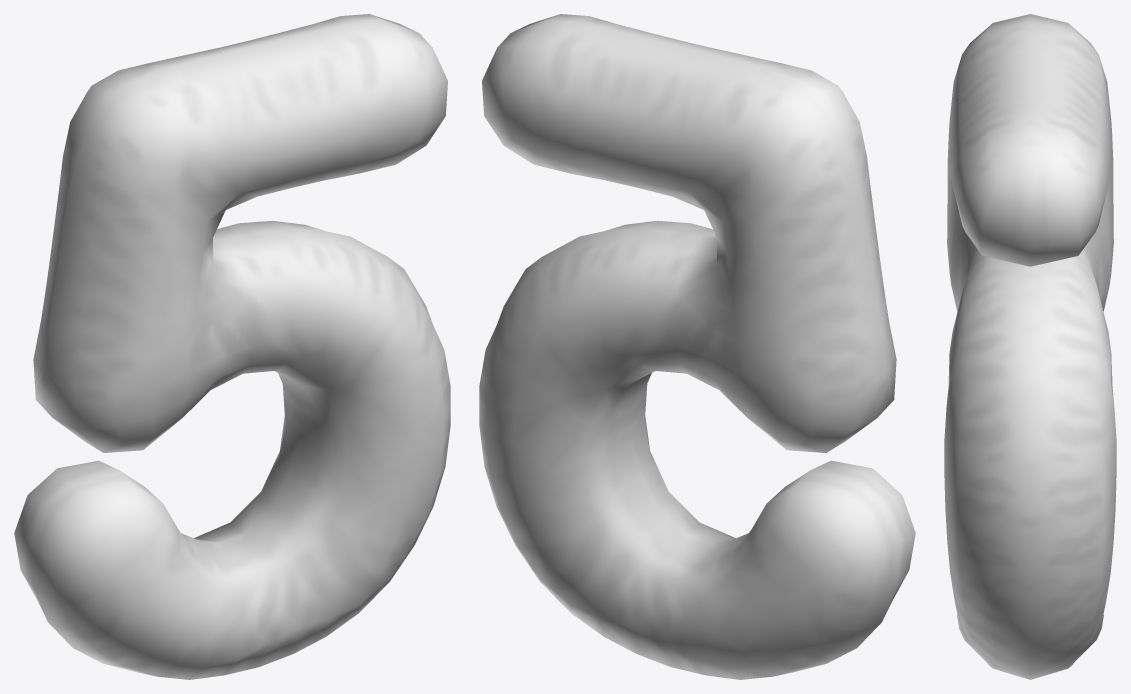
Rendered from LettersBalloon01_5.FBX.
3 renders of one model, left to right at view 1: azimuth 30°, elevation 25°; view 2: azimuth 150°, elevation 25°; view 3: azimuth 270°, elevation 25°, orthographic. The views are drawn at different scales.
Parts seen in each view (by area): view 1: LettersBalloon01_5; view 2: LettersBalloon01_5; view 3: LettersBalloon01_5.
Part boxes in pixels (<box>): LettersBalloon01_5: <box>14,14,450,679</box>; LettersBalloon01_5: <box>479,14,915,679</box>; LettersBalloon01_5: <box>944,14,1116,679</box>.
Size of what is drawn, in the model's own units: 0.342 by 0.4842 by 0.1271.
